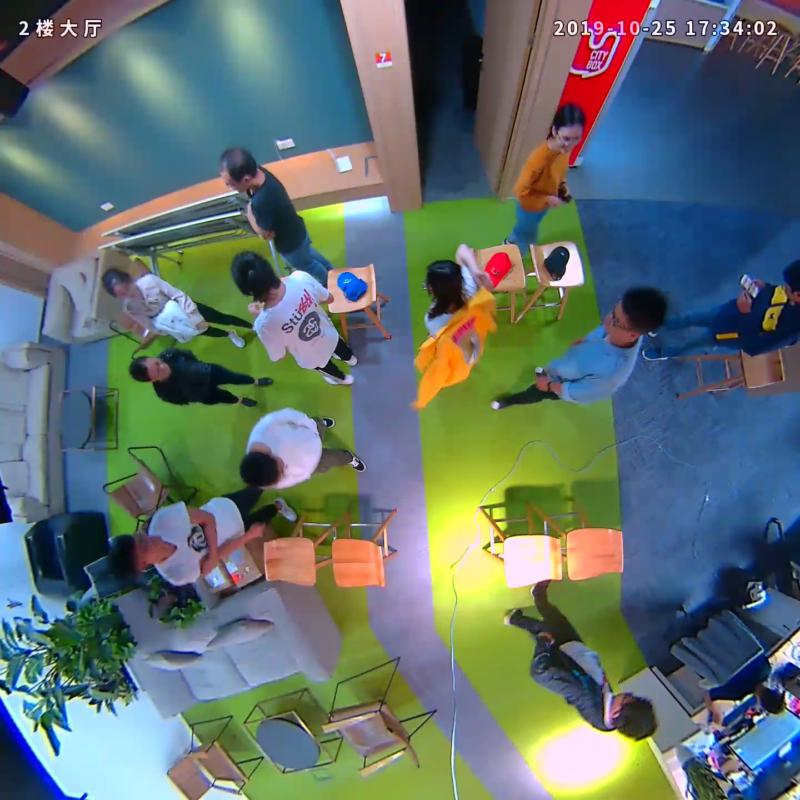head: (602, 285, 666, 341), (104, 533, 163, 577), (609, 691, 657, 742), (548, 102, 585, 155), (218, 147, 257, 195), (231, 251, 272, 296), (239, 450, 284, 486), (425, 260, 462, 296), (101, 266, 137, 301), (127, 355, 170, 382)
